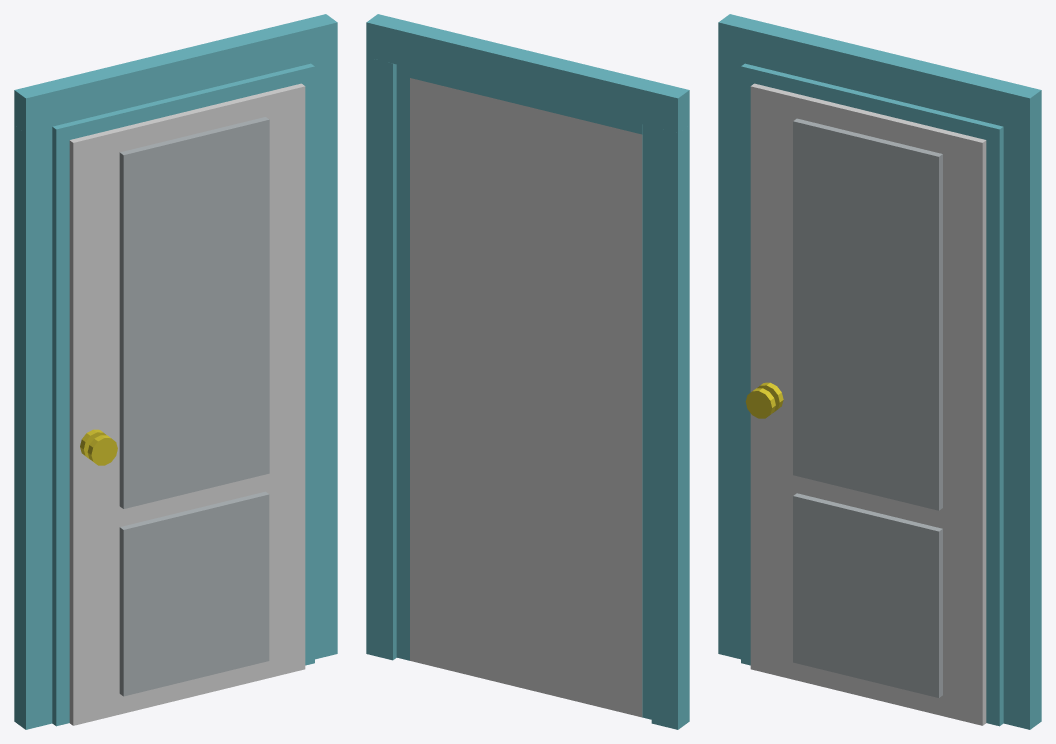
File: Door.glb
3 views of the same model, side by side, from view 1: azimuth 30°, elevation 25°; view 2: azimuth 150°, elevation 25°; view 3: azimuth 330°, elevation 25° (orthographic).
Parts seen in each view (by area): view 1: node_MeshObject-942744640-PolyPaper3; view 2: node_MeshObject-942744640-PolyPaper3; view 3: node_MeshObject-942744640-PolyPaper3.
Part boxes in pixels (left/top/right/bottom): node_MeshObject-942744640-PolyPaper3: left=14, top=14, right=337, bottom=729; node_MeshObject-942744640-PolyPaper3: left=366, top=14, right=689, bottom=729; node_MeshObject-942744640-PolyPaper3: left=718, top=14, right=1041, bottom=729.
Size of the model in its own units: 0.47 by 0.91 by 0.08.
